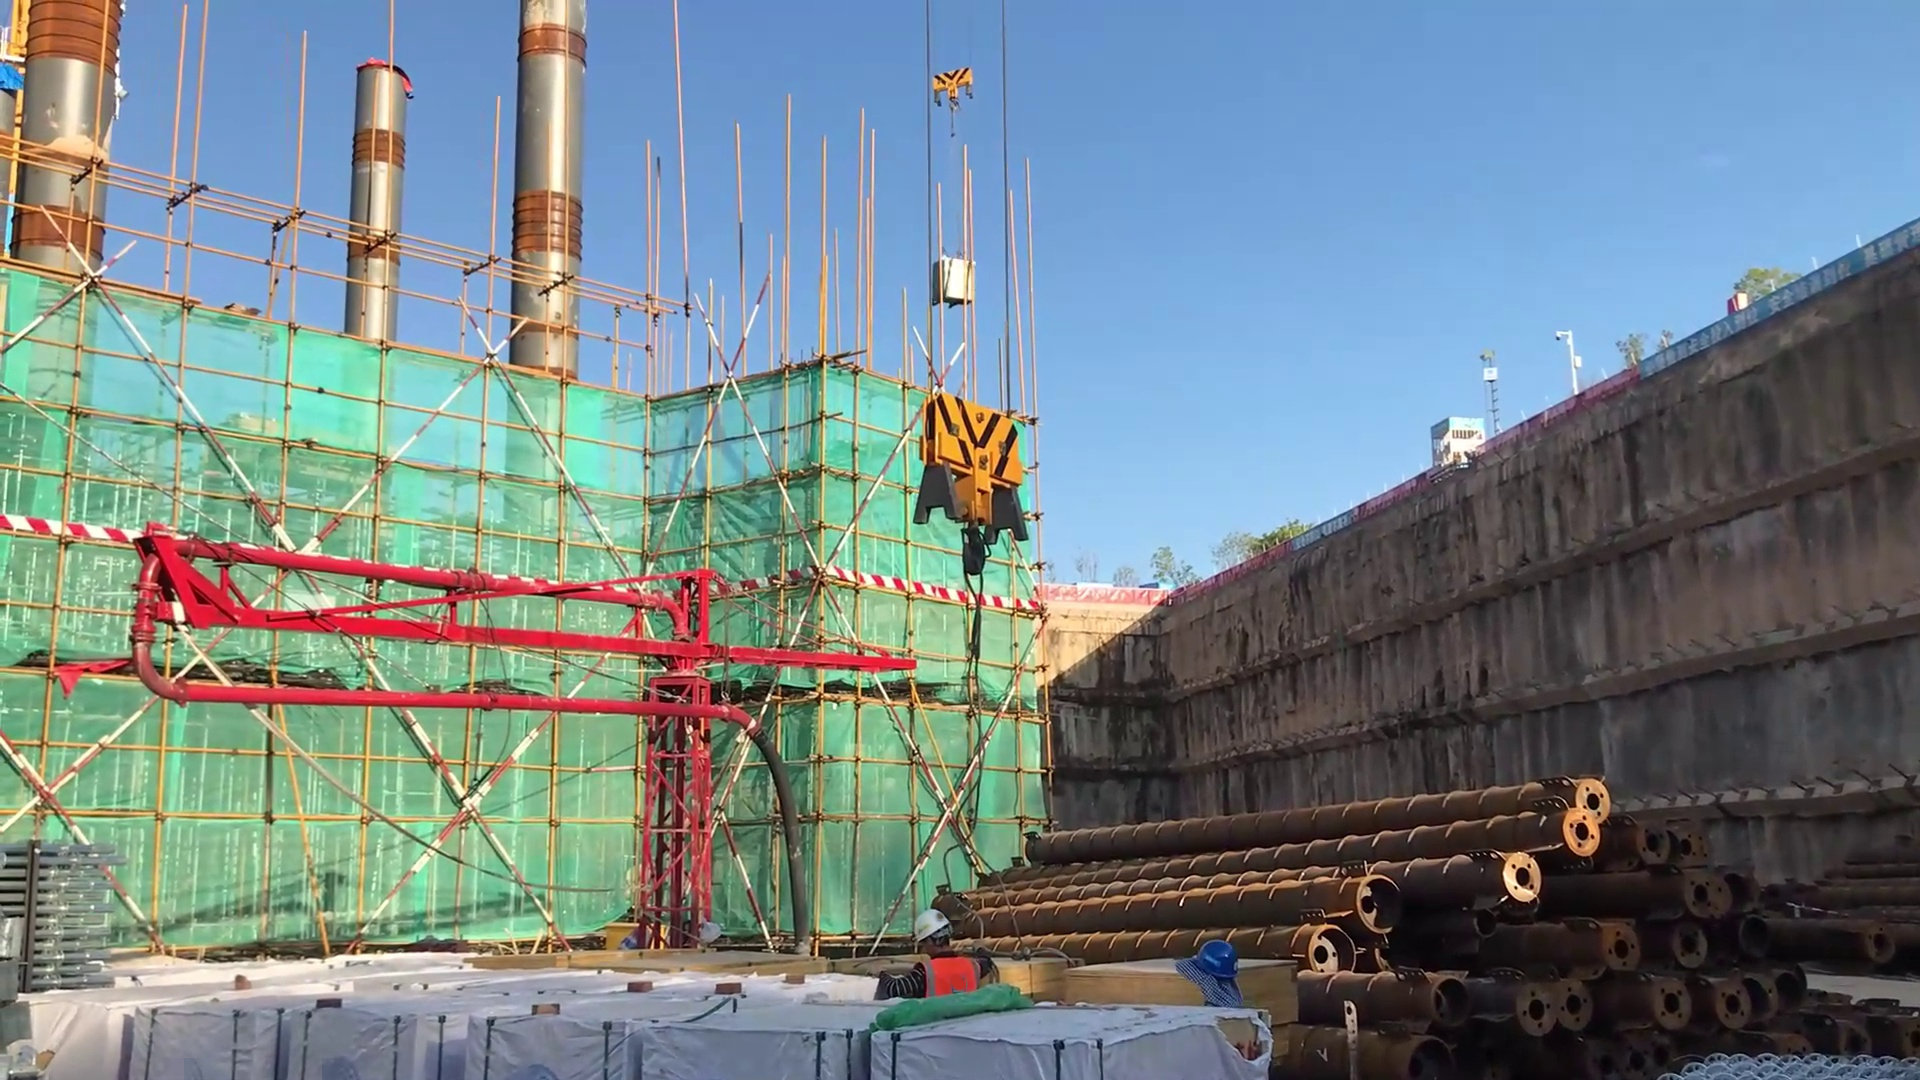board: (1062, 955, 1301, 1008), (985, 958, 1084, 993)
ebox: (598, 914, 679, 971)
helmet: (1176, 937, 1243, 994), (908, 912, 969, 965)
hook: (905, 369, 1054, 577), (933, 51, 995, 152)
person: (869, 909, 1010, 1037)
scaffold: (2, 821, 134, 1001)
slogan: (1627, 212, 1920, 407), (1288, 499, 1362, 562)
vest: (913, 956, 988, 1016)
